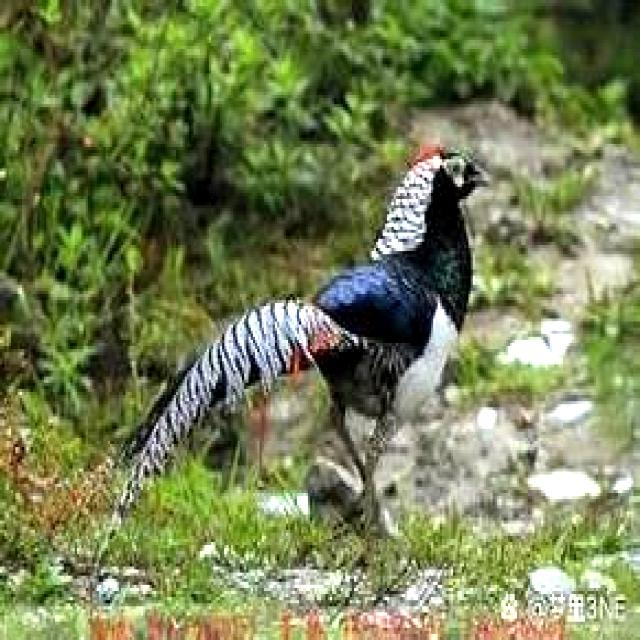Chrysolophus amherstiae: (121, 300, 358, 505)
